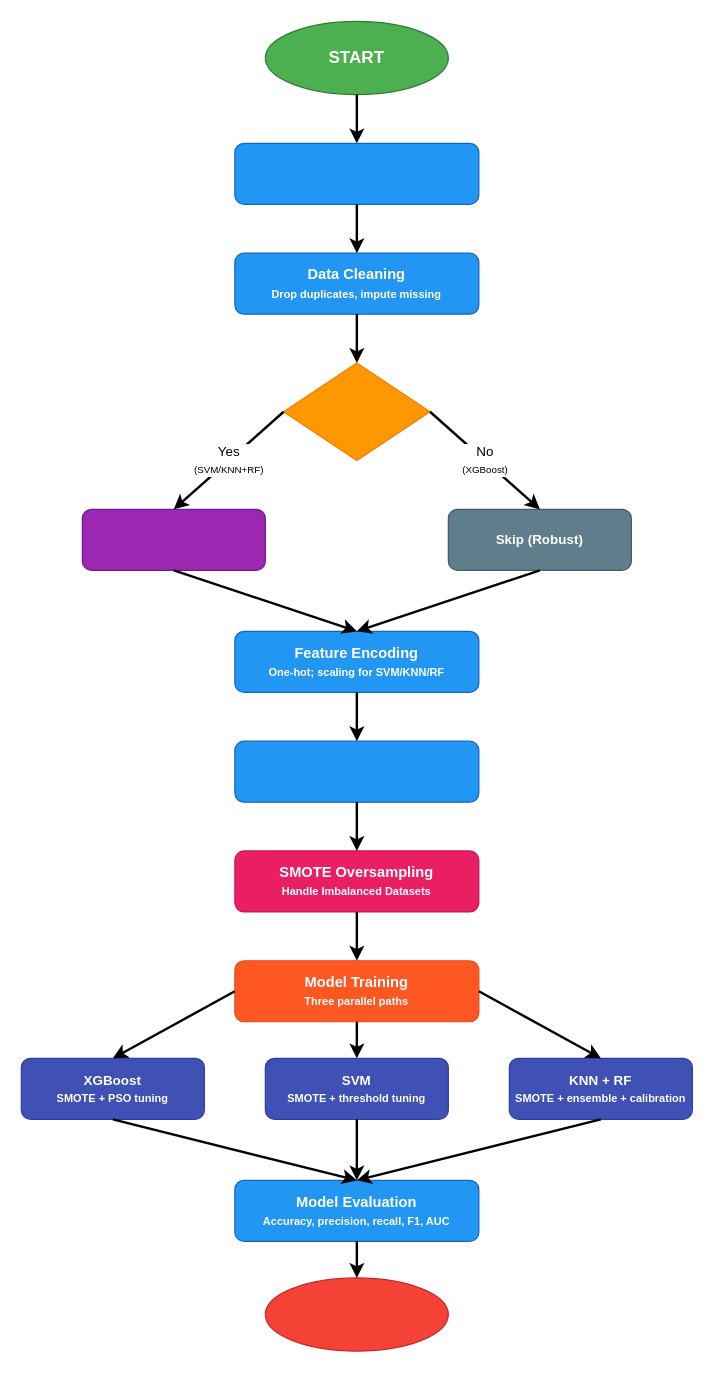
Some shapes in this 714 by 1373 pixel diagram are drawn without their labels. Here are the shapes that lost their labels. From the top down, the box of each, then its label:
(234, 142, 479, 204): EDA & Quality Check Shape, duplicates, missing values
(282, 362, 430, 461): Outlier Removal?
(81, 508, 265, 570): IQR Method
(234, 740, 479, 802): Train/Test Split Stratified, 80%/20%
(264, 1277, 448, 1351): END
